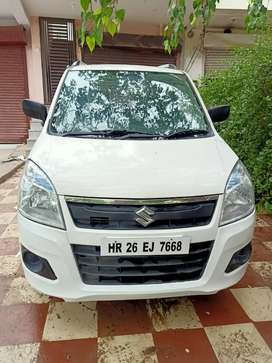HR26EJ7668: (101, 238, 190, 254)
